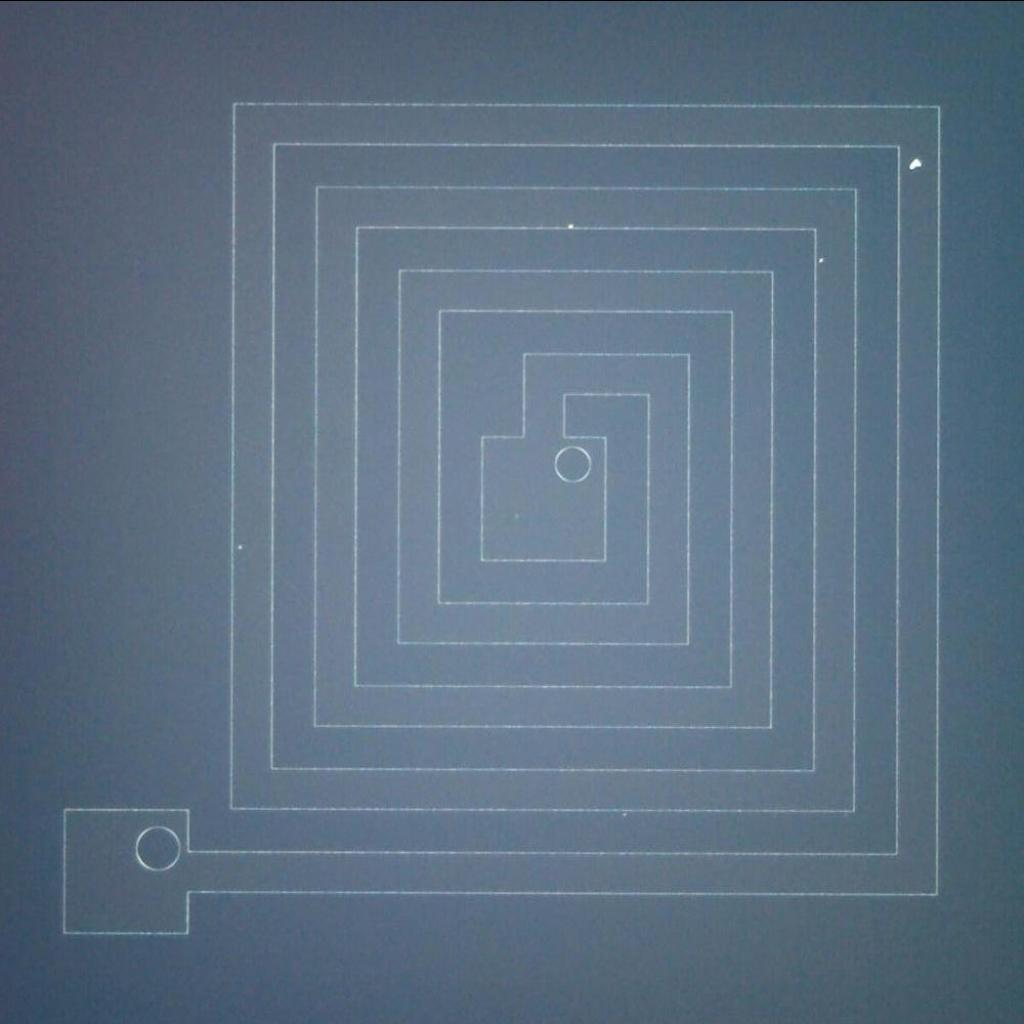circle: (132, 824, 182, 874), (552, 440, 594, 482)
dot: (811, 240, 836, 272), (558, 213, 581, 238)
spot: (903, 152, 929, 174)
